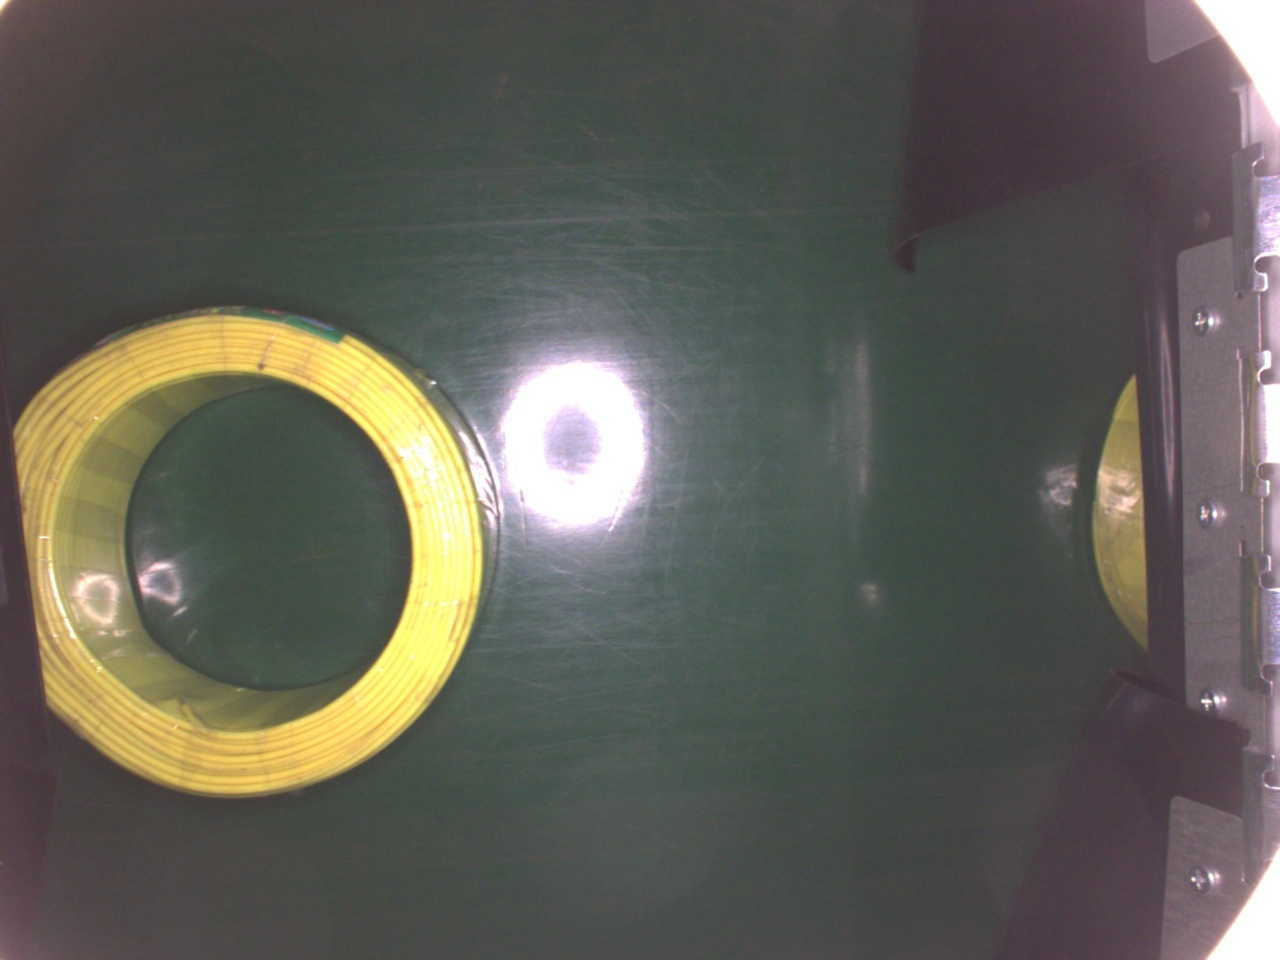yellow: (11, 303, 501, 799)
